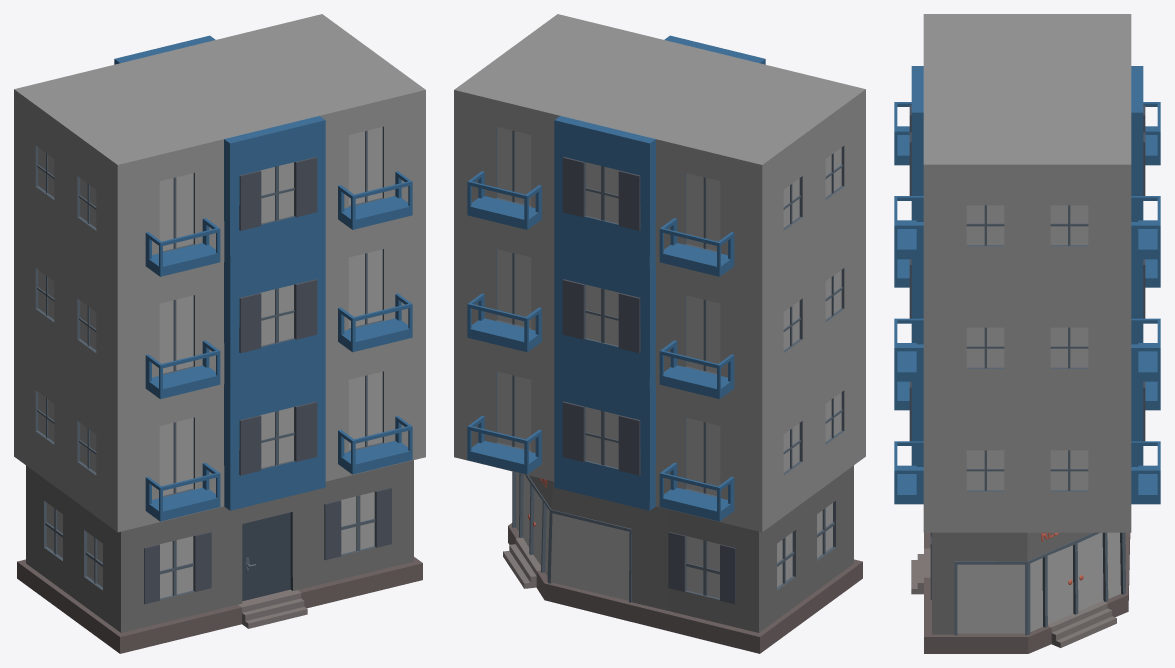
The model's file is Restaurant.fbx.
3 renders of one model, left to right at view 1: azimuth 30°, elevation 25°; view 2: azimuth 150°, elevation 25°; view 3: azimuth 270°, elevation 25°, orthographic.
Visible parts, largest first — view 1: restaurant.004; view 2: restaurant.004; view 3: restaurant.004.
Part boxes in pixels (bbox=[...]): restaurant.004: bbox=[14, 14, 425, 653]; restaurant.004: bbox=[454, 14, 865, 653]; restaurant.004: bbox=[894, 14, 1160, 653].
Bounding box in the file's own units: 4482 × 6804 × 3346.
